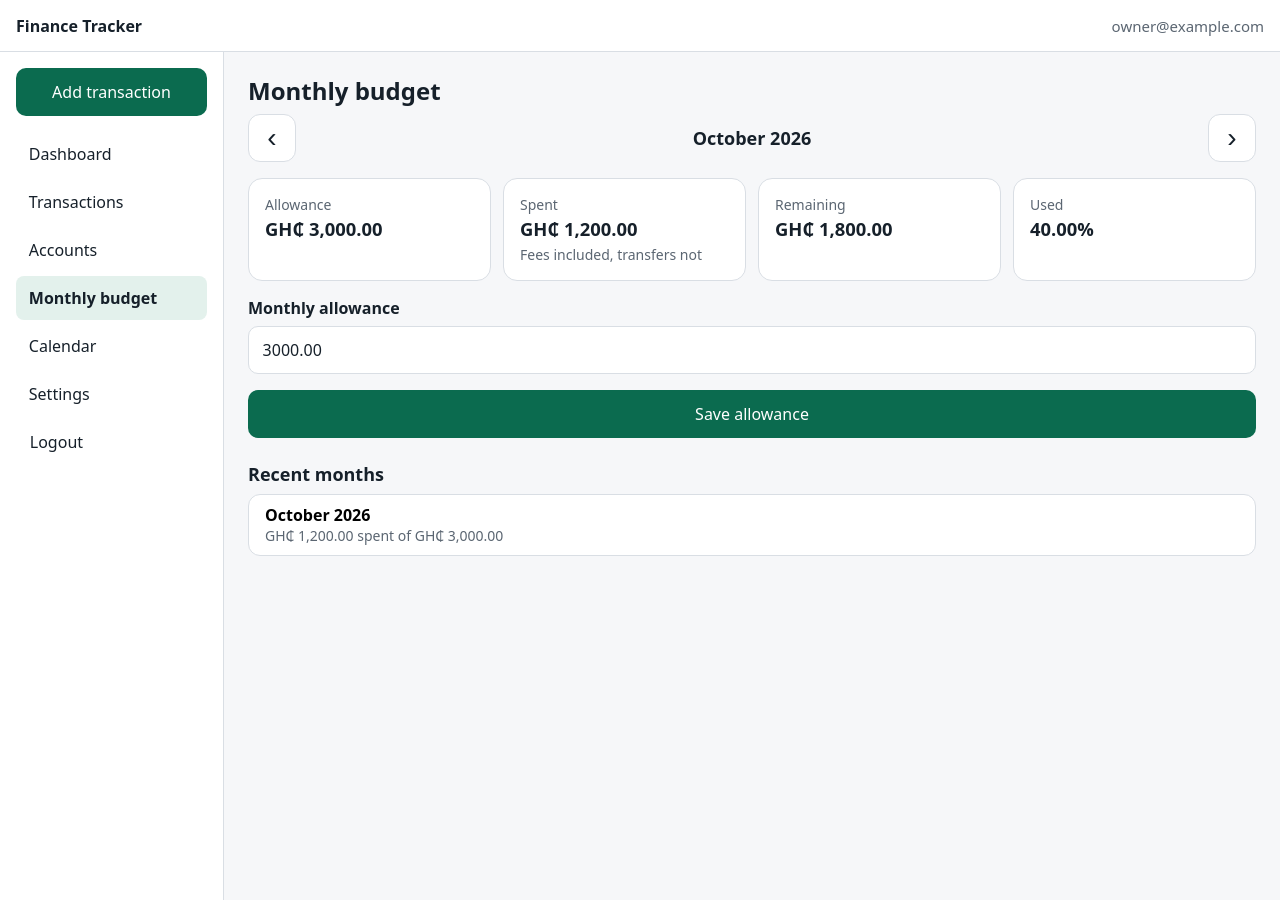
Scenario: allowance form › prefills the current allowance and shows a failed save without losing the value
Expected: the field labelled "Monthly allowance" holds "3000.00", x1=248 y1=326 x2=1256 y2=374
Click the button "Save allowance" at (752, 414), box x1=248 y1=390 x2=1256 y2=438
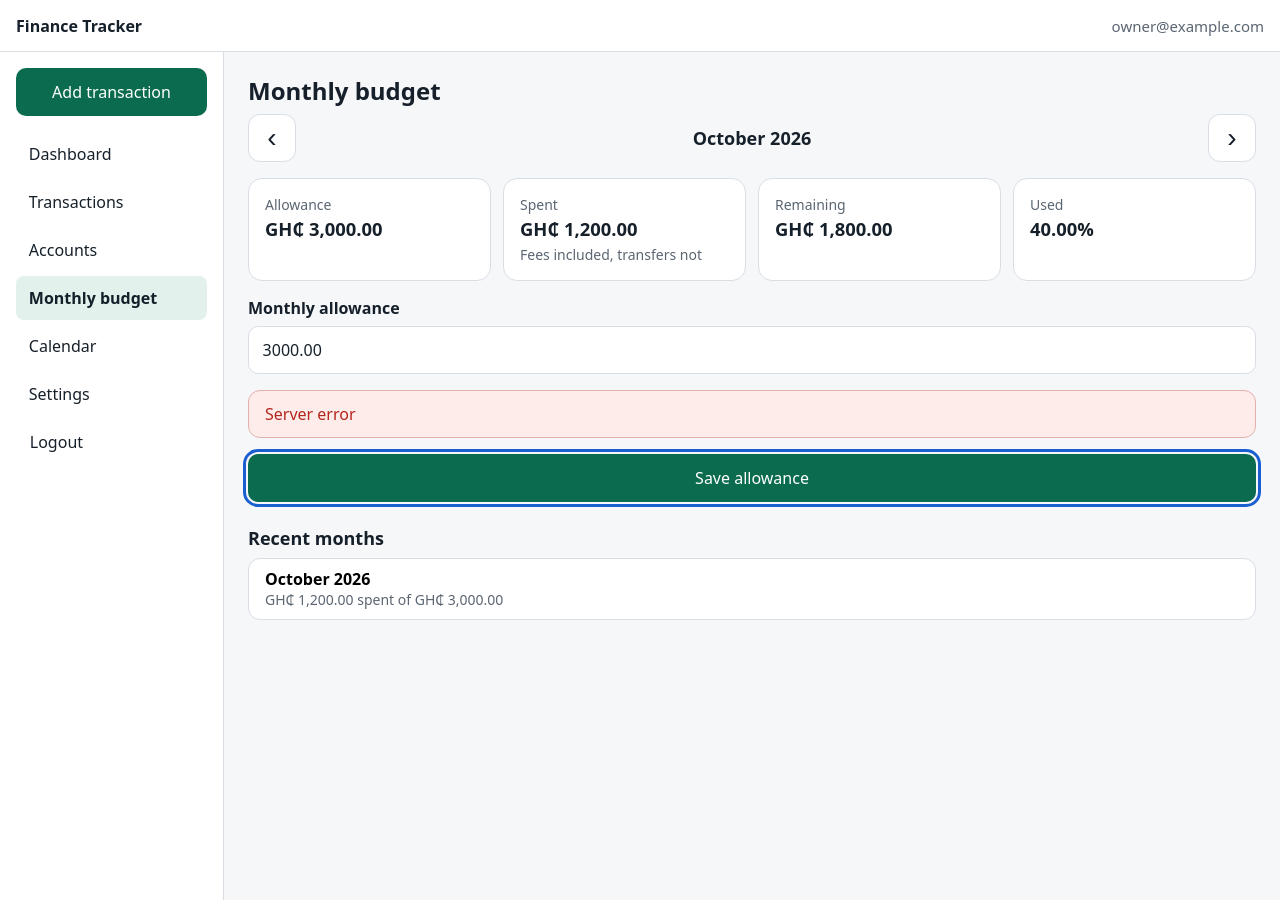
Expected: the field labelled "Monthly allowance" holds "3000.00", x1=248 y1=326 x2=1256 y2=374
Now the message "Server error" is shown, box x1=248 y1=390 x2=1256 y2=438
